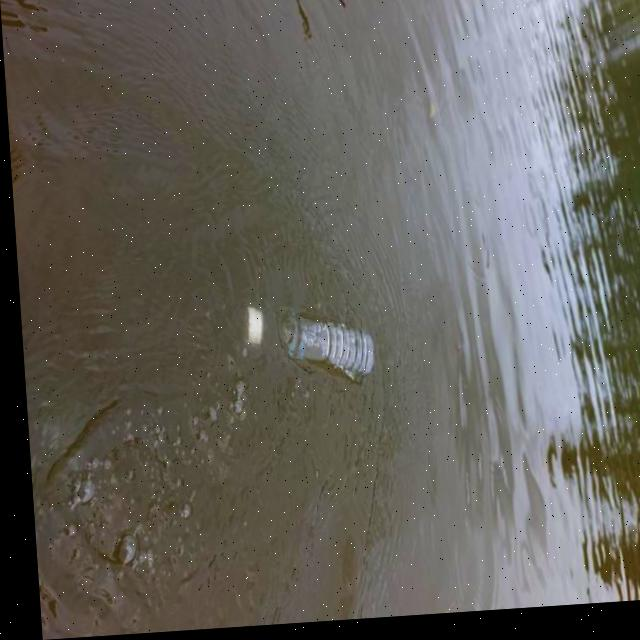waterbottle: (238, 301, 369, 396)
